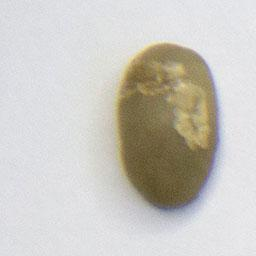premium: (113, 39, 223, 211)
